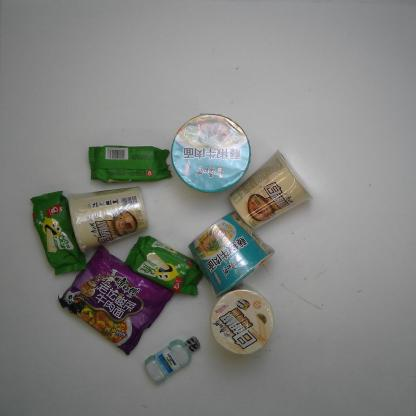Dessert: (29, 190, 87, 276), (124, 235, 204, 296), (88, 145, 173, 184)
Instant Noodles: (58, 245, 175, 356), (187, 210, 276, 299), (228, 149, 314, 230), (170, 113, 251, 194), (68, 186, 149, 254), (210, 288, 274, 355)
Personal Hygiene: (144, 336, 201, 384)
